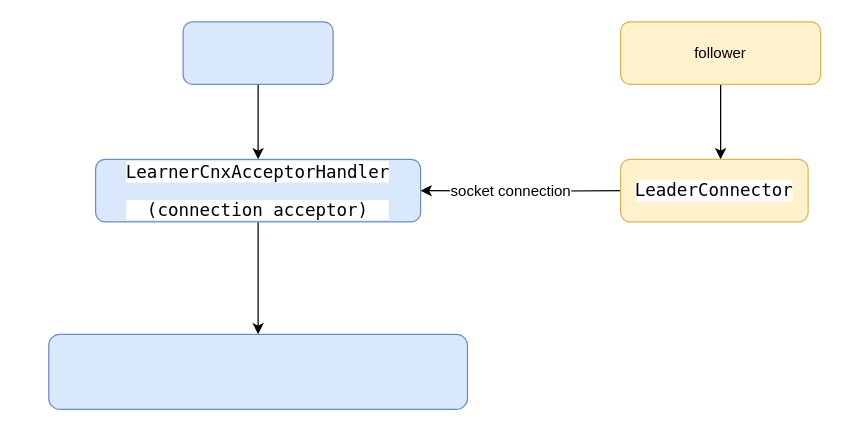
The diagram is 843 pixels wide and 441 high, and some of its shapes have lost their labels. Each missing label, with the centre of its shape:
"Leader" goes at point 257,52.
"LearnerHandler (leader-side thread that serves one follower)" goes at point 258,371.
